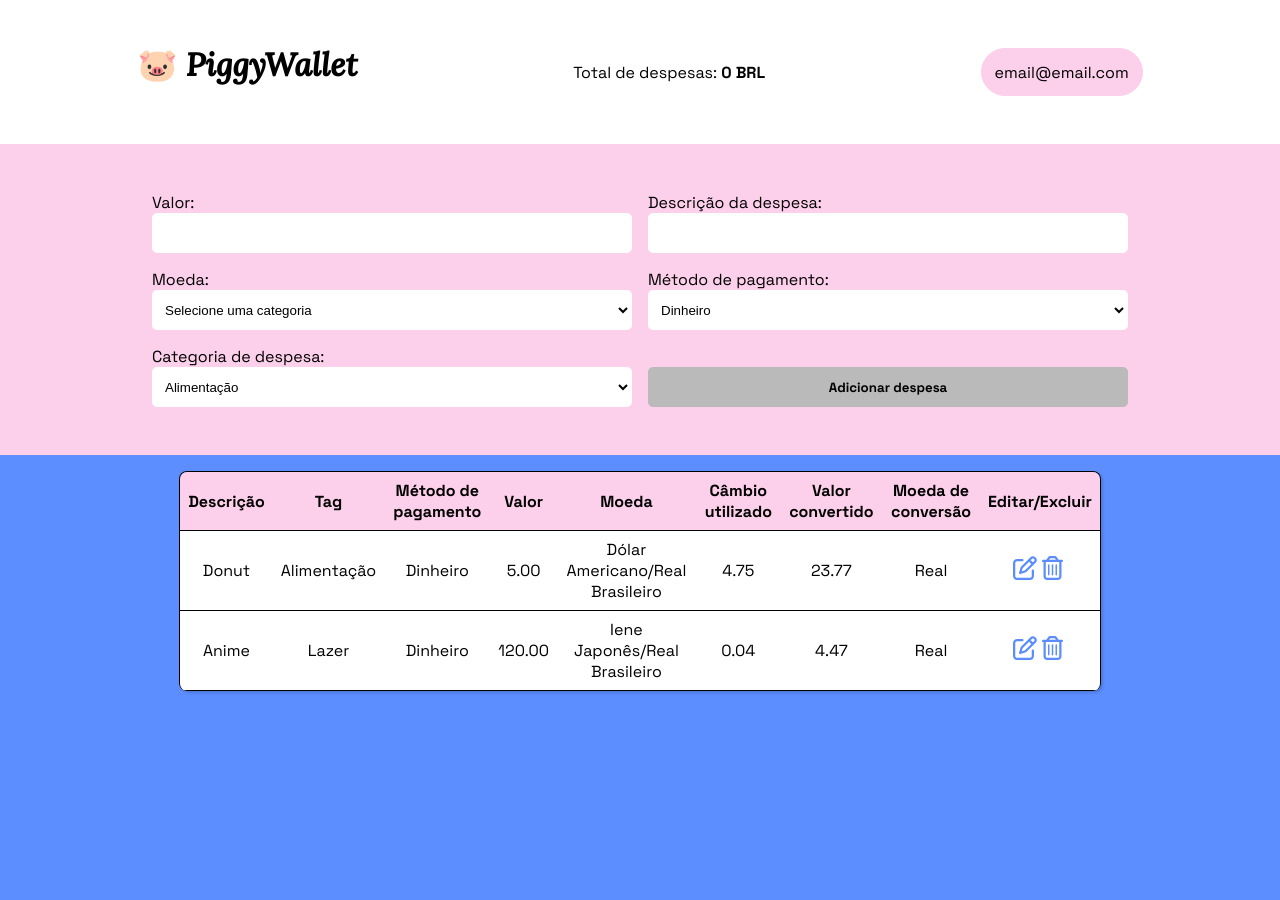
testa do componente EditExpenseForm › elemente tem nome editado ao clicar Editar despesa
The image size is (1280, 900).
Click the 1st button with test id "edit-btn" at (1027, 570), box [1012,554,1041,586]
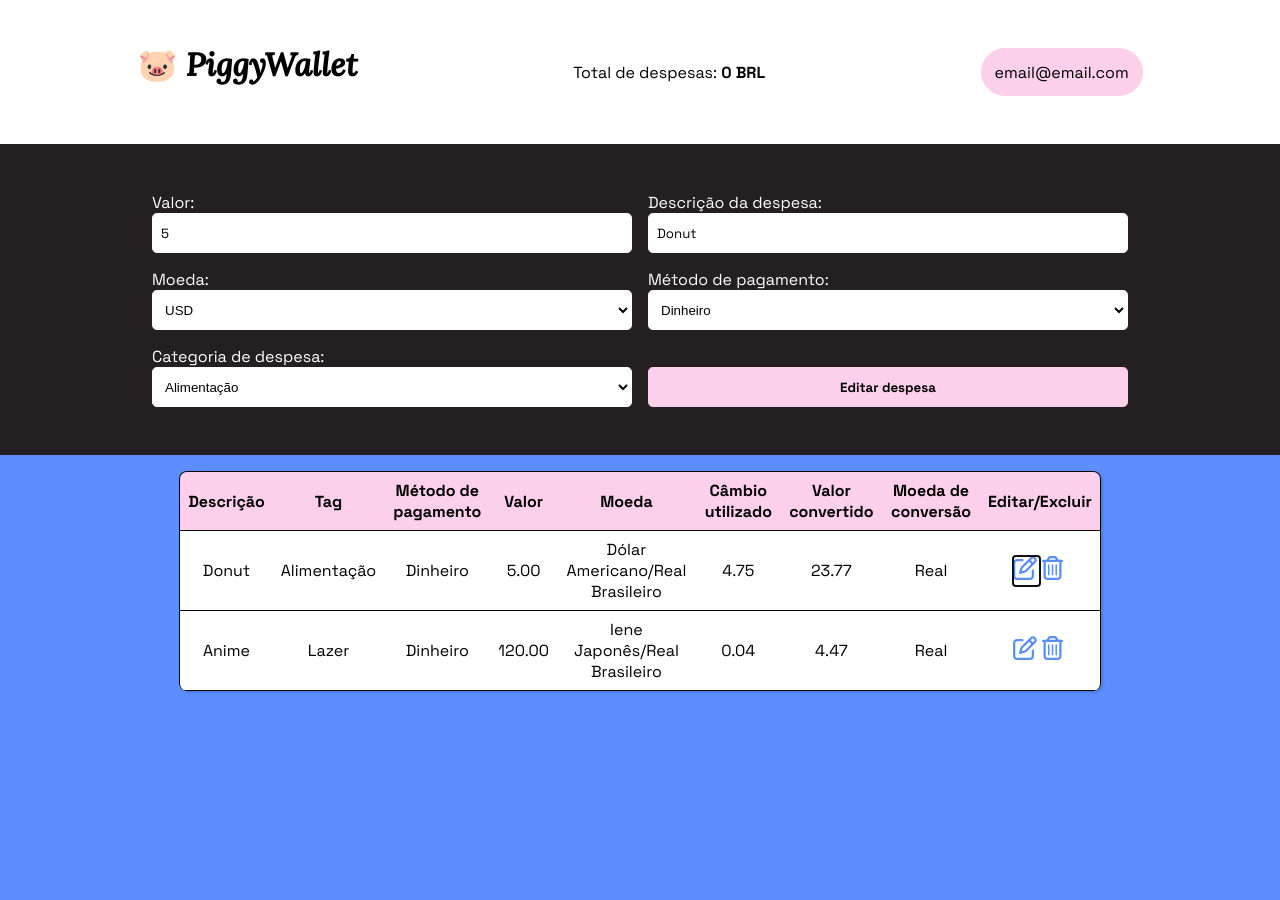
Type " de Chocolate" into the field with test id "description-input" at (888, 233), box [648,213,1128,253]
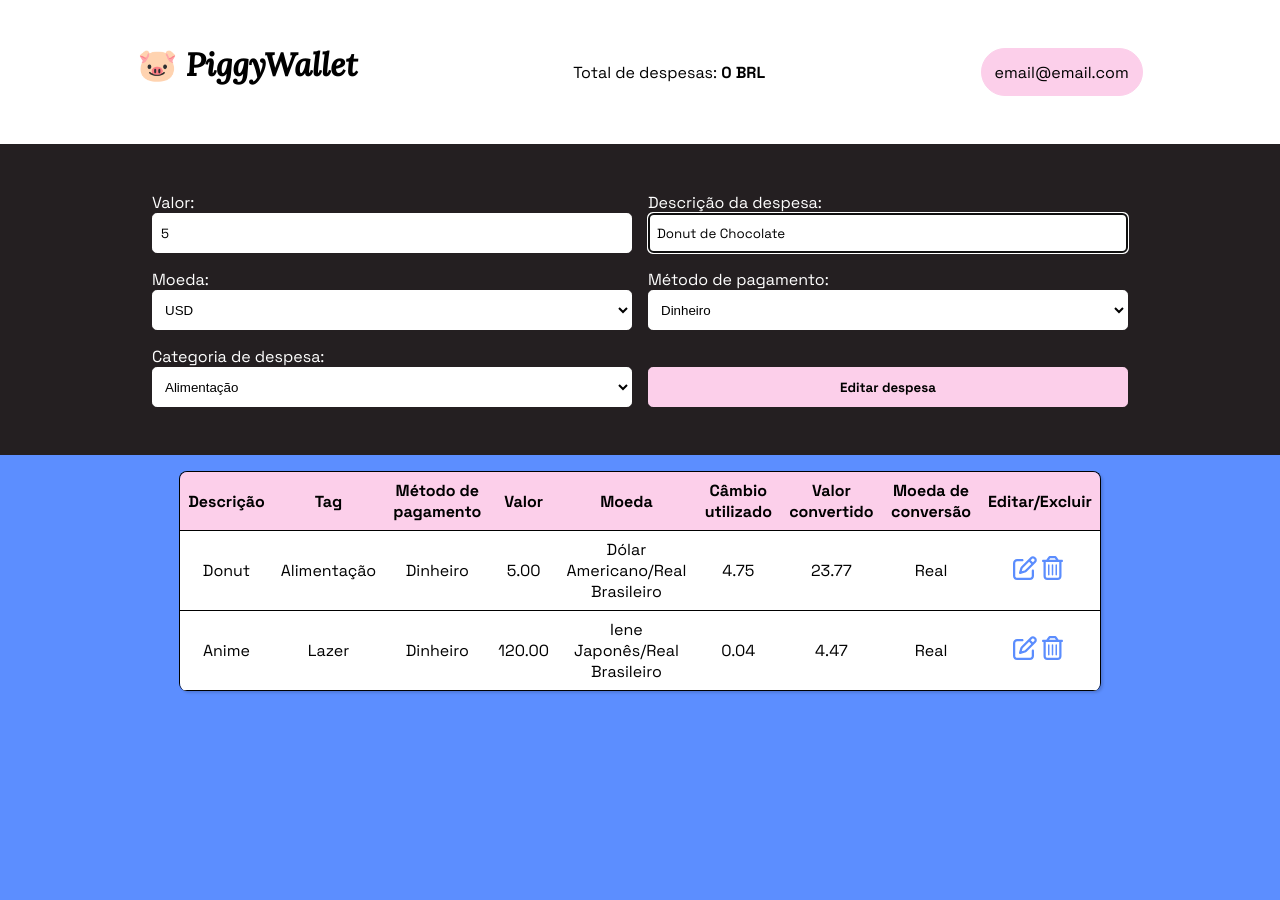
Click the button "Editar despesa" at (888, 387), box [648,367,1128,407]
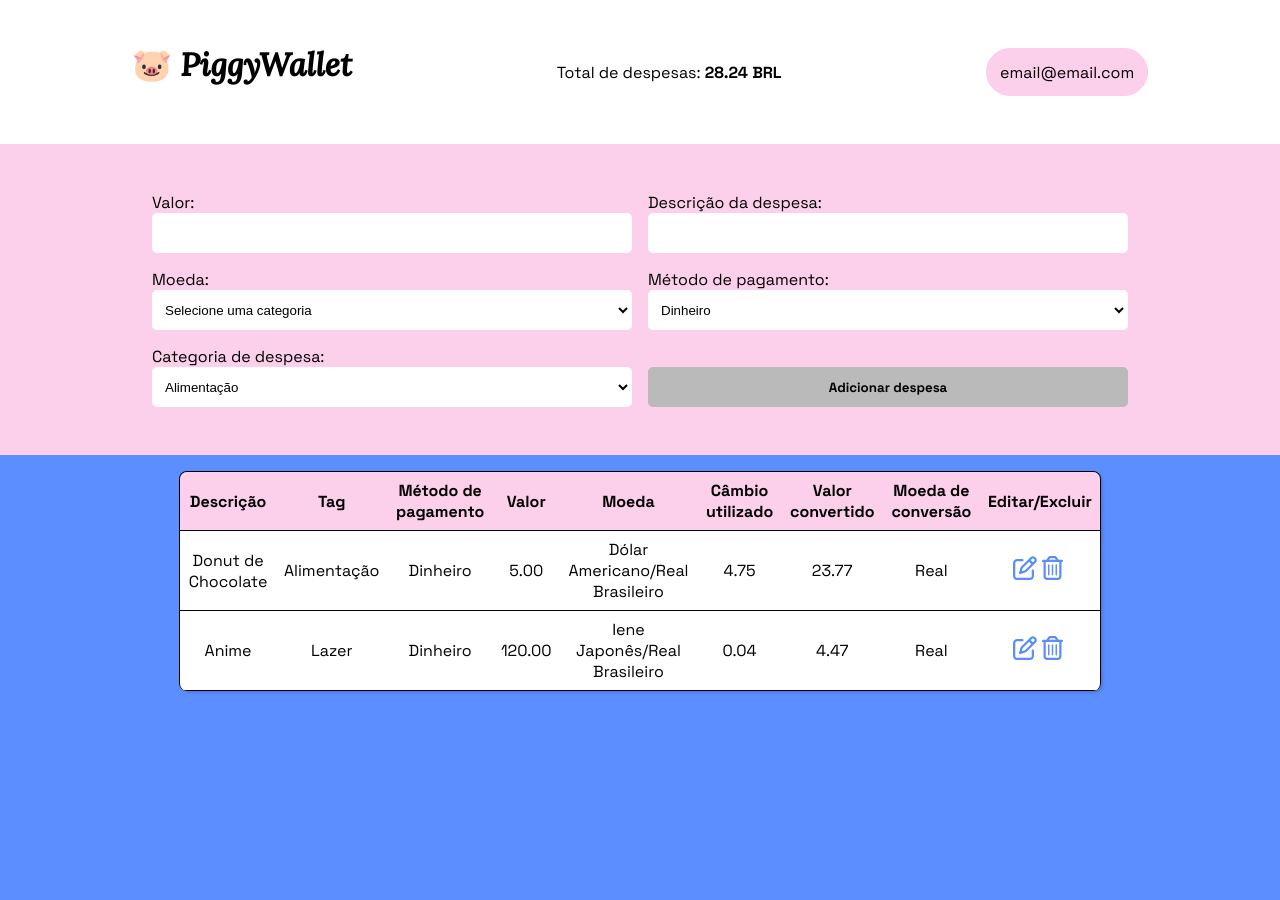
Result: the text "Donut de Chocolate" is shown at [180,531,276,611]
